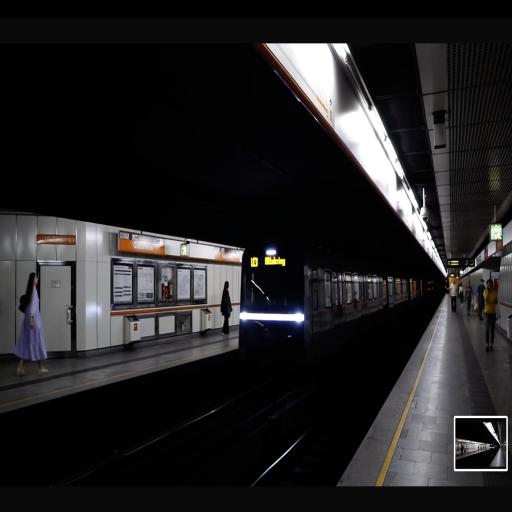X-Wagen: (241, 246, 415, 359)
